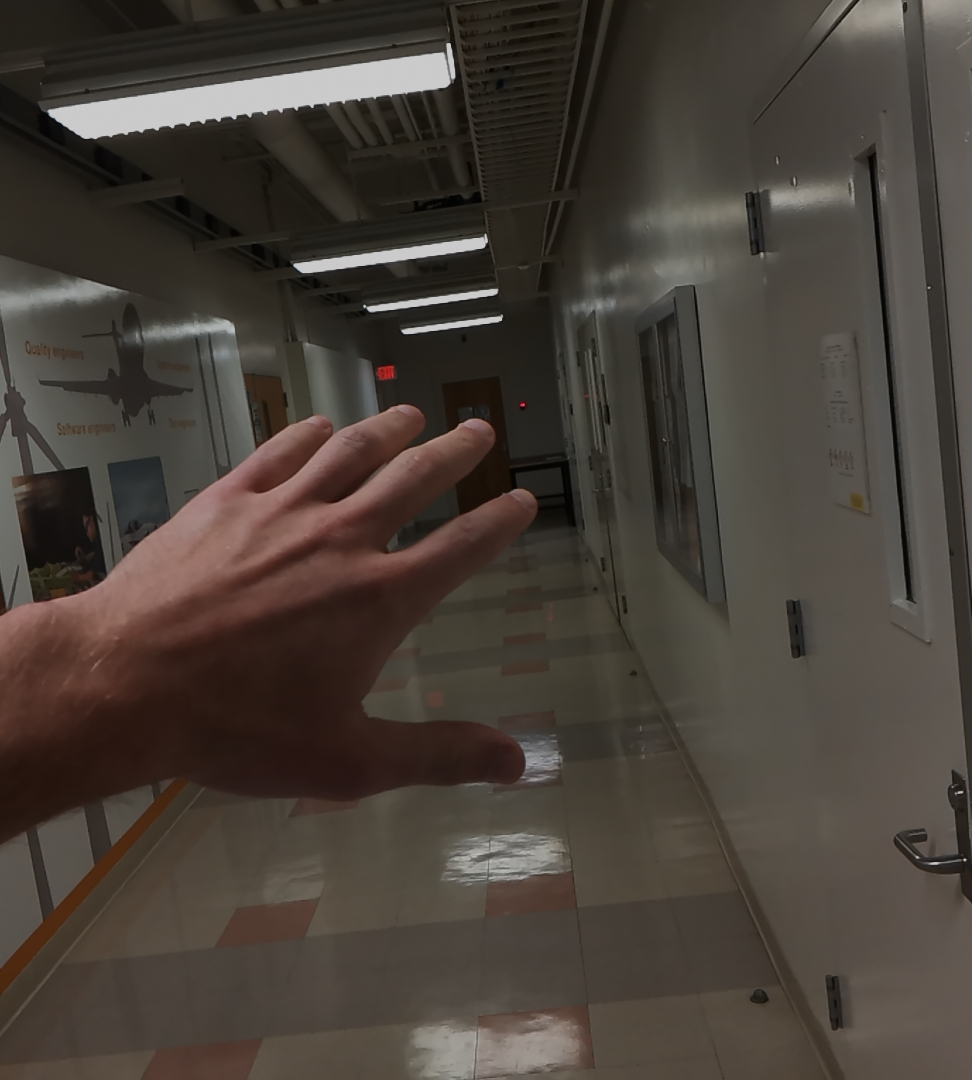emergency_exit: (373, 362, 398, 383)
